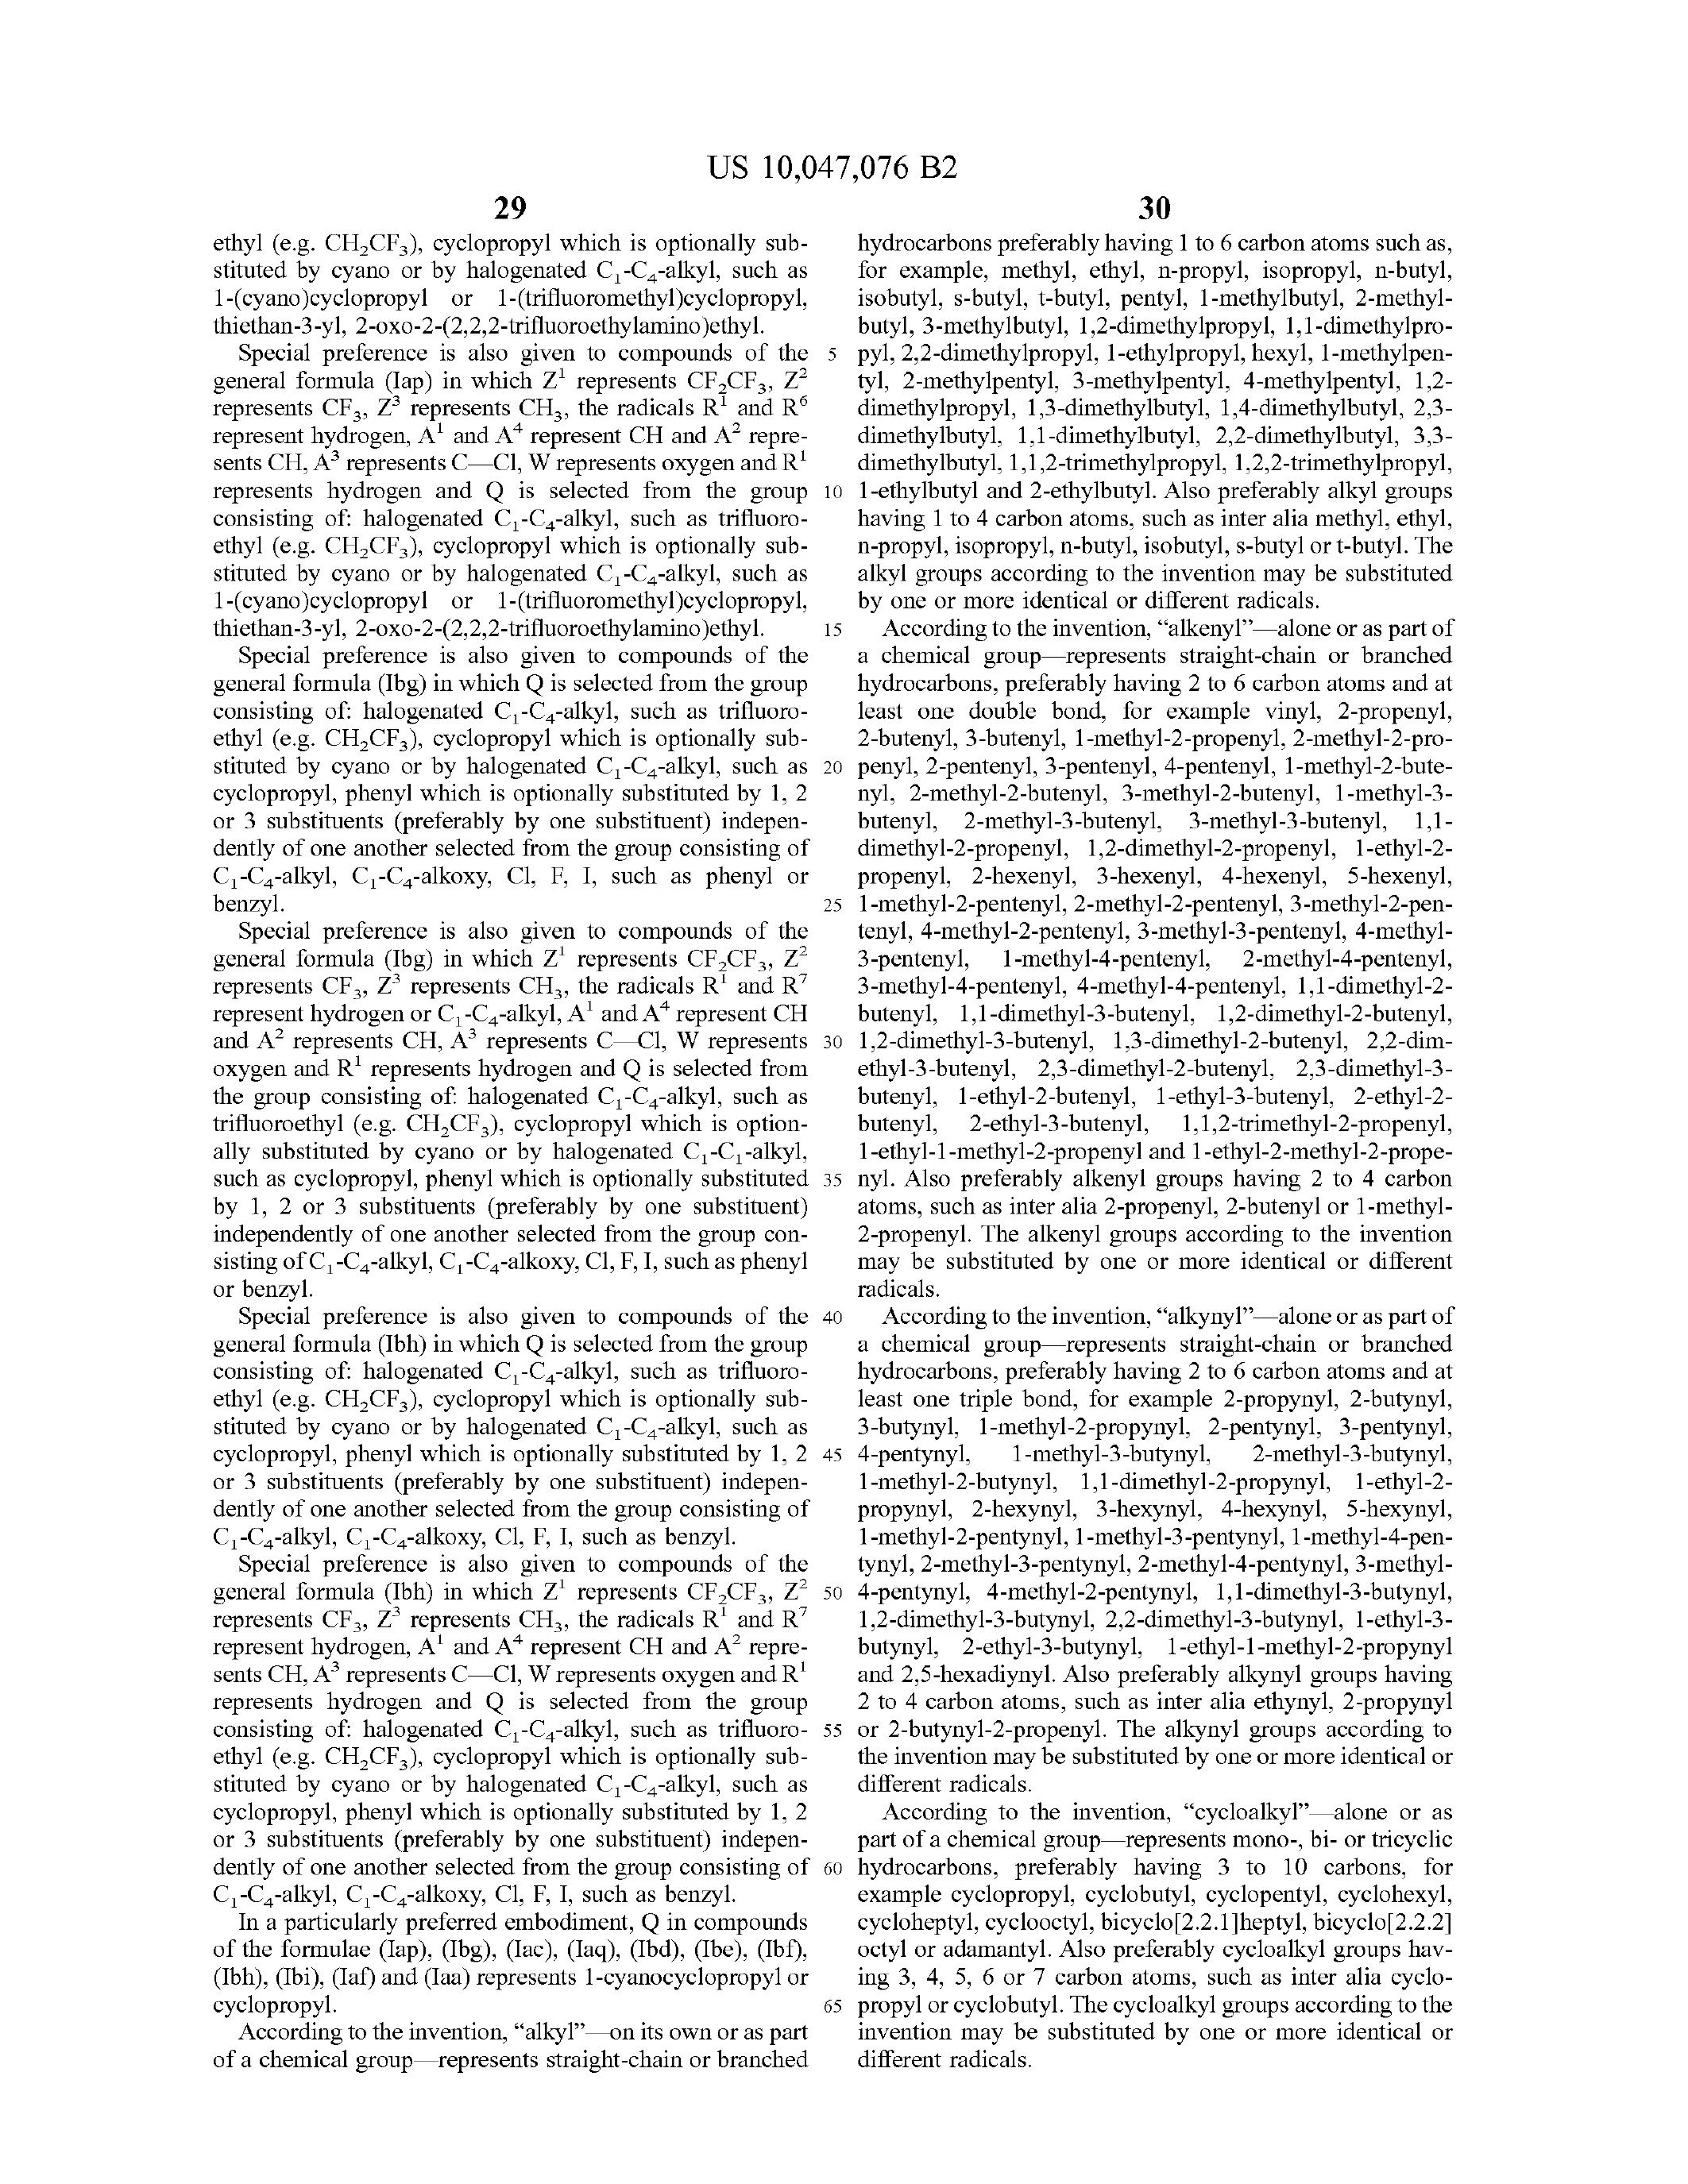substitutes: (220, 344, 798, 913)
